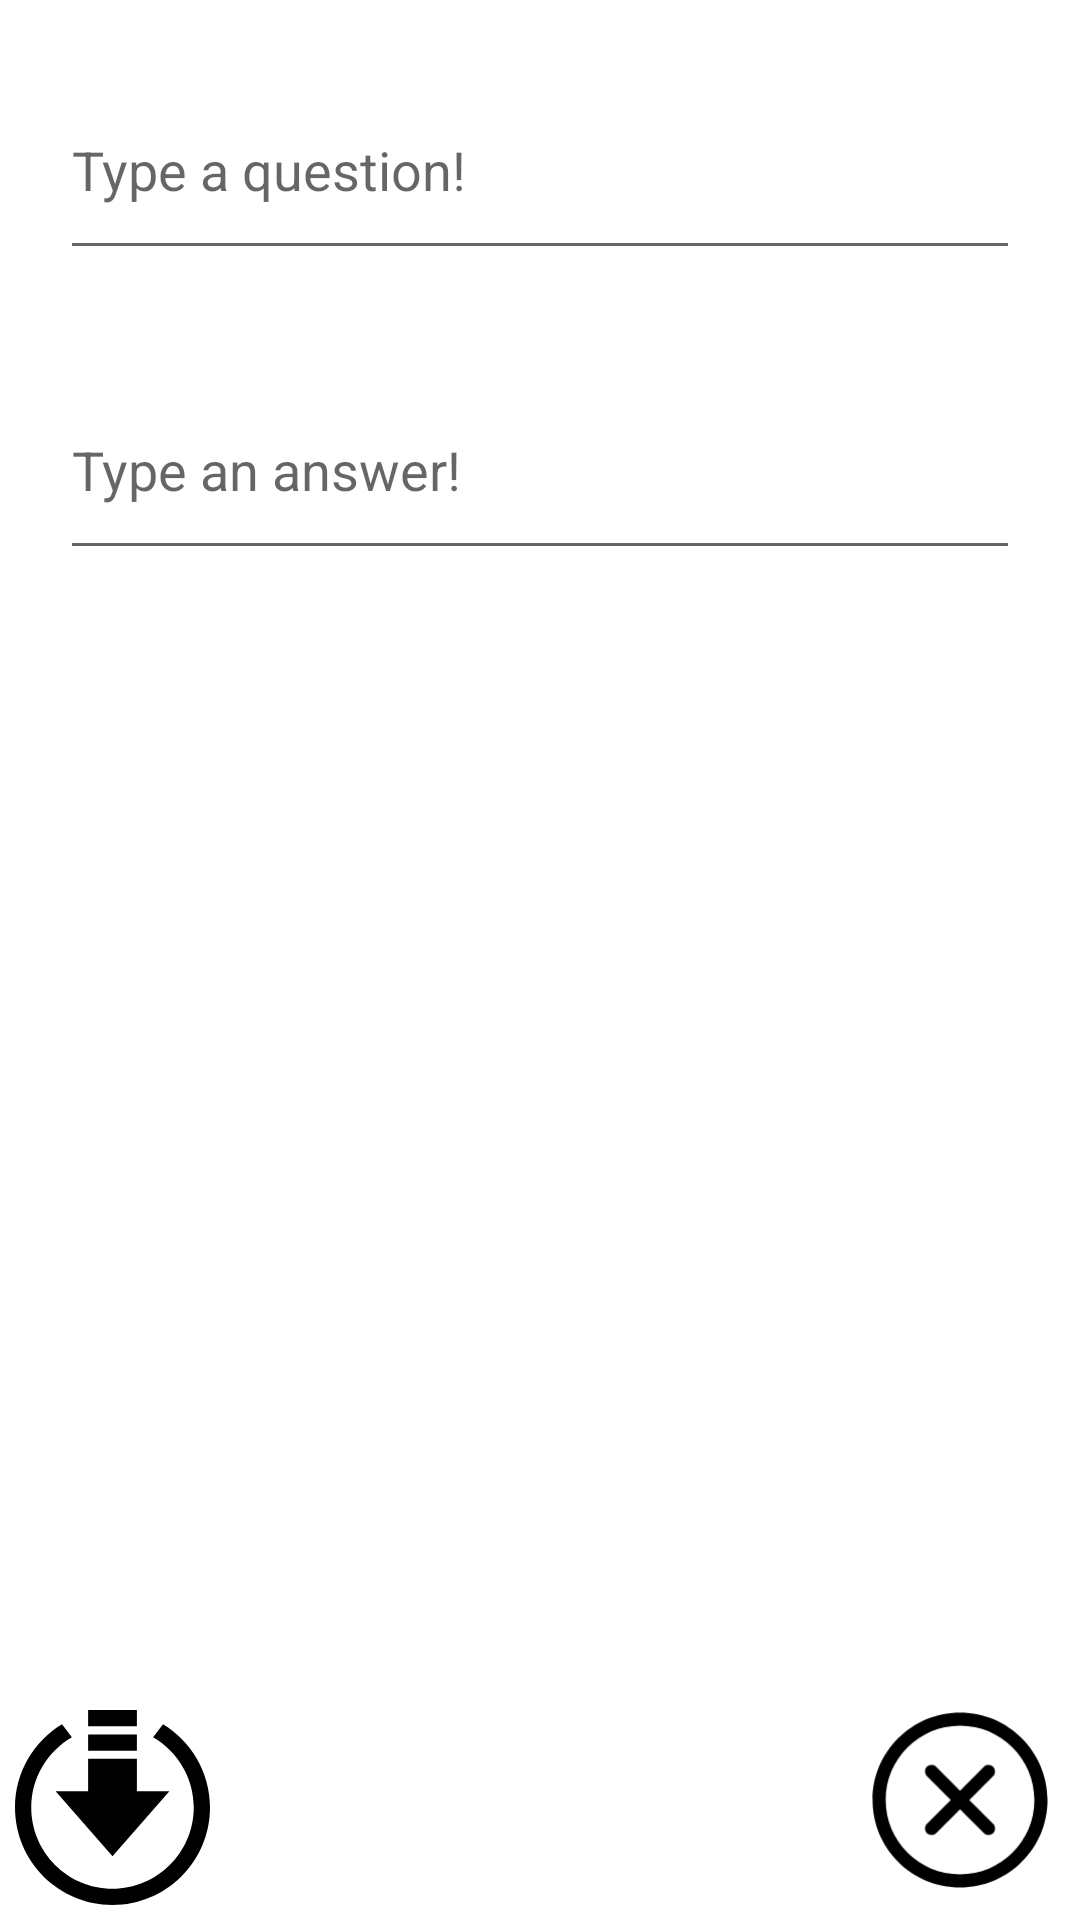

Where icons sit on this 1080px×1920px app screen, as bbox=(x1, y1, x2, y2):
cancelbutton: bbox=(872, 1712, 1048, 1888)
savebutton: bbox=(15, 1710, 210, 1905)
